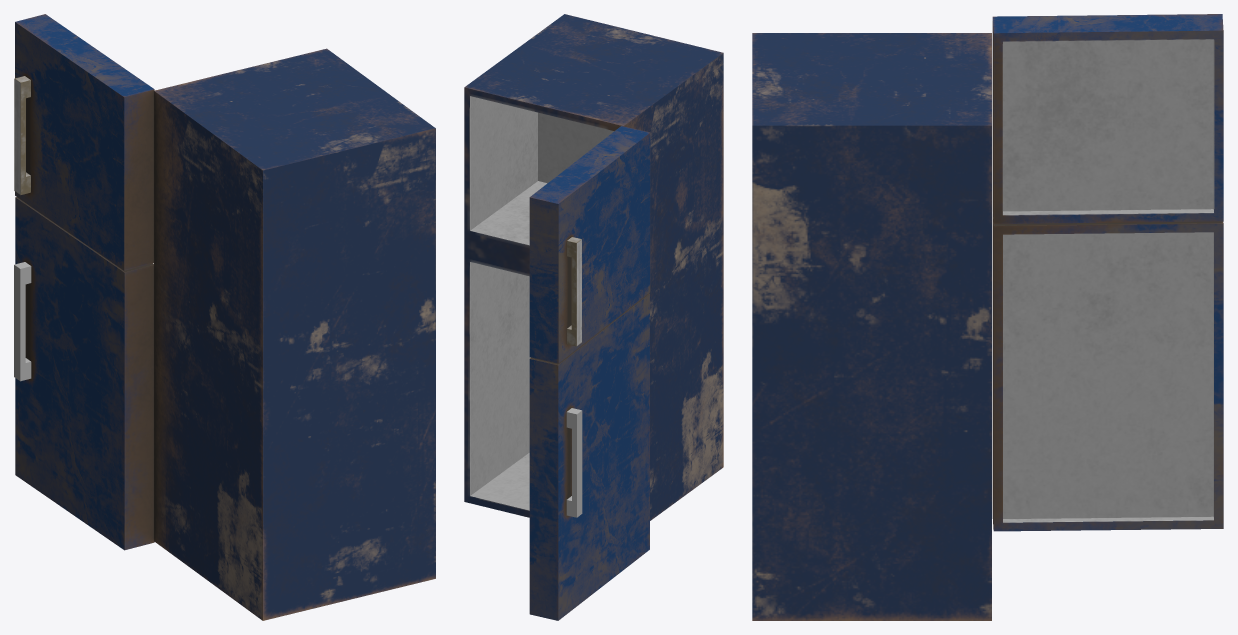
The model's file is fridge.fbx.
3 renders of one model, left to right at view 1: azimuth 30°, elevation 25°; view 2: azimuth 150°, elevation 25°; view 3: azimuth 270°, elevation 25°, orthographic. The views are drawn at different scales.
Parts seen in each view (by area): view 1: polySurface73, polySurface81, polySurface81.001; view 2: polySurface73, polySurface81, polySurface81.001, polySurface81.003, polySurface81.002; view 3: polySurface73, polySurface81, polySurface81.001.
Boxes of the visible parts, x1=… form: polySurface73: x1=154, y1=48, x2=435, y2=620; polySurface81: x1=14, y1=197, x2=154, y2=550; polySurface81.001: x1=14, y1=14, x2=154, y2=270; polySurface73: x1=464, y1=14, x2=723, y2=520; polySurface81: x1=529, y1=293, x2=649, y2=620; polySurface81.001: x1=529, y1=126, x2=650, y2=363; polySurface81.003: x1=470, y1=262, x2=530, y2=510; polySurface81.002: x1=470, y1=96, x2=613, y2=245; polySurface73: x1=752, y1=33, x2=991, y2=620; polySurface81: x1=992, y1=212, x2=1223, y2=531; polySurface81.001: x1=992, y1=14, x2=1223, y2=223.
Size of the model in its own units: 116 by 231 by 198.
1 material, 1 textured.
